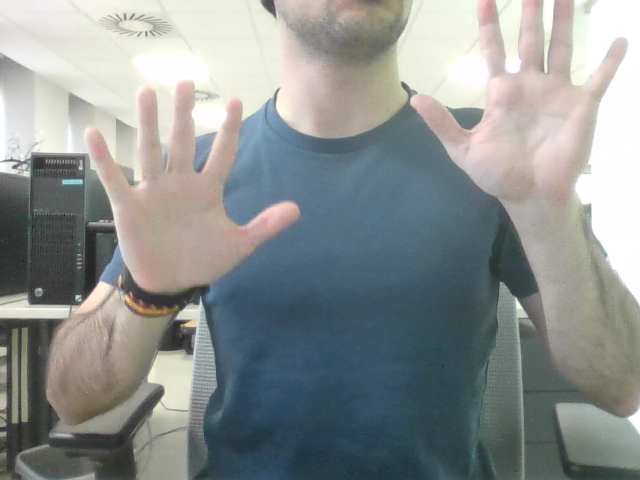Manos Arriba: (120, 2, 594, 254)
